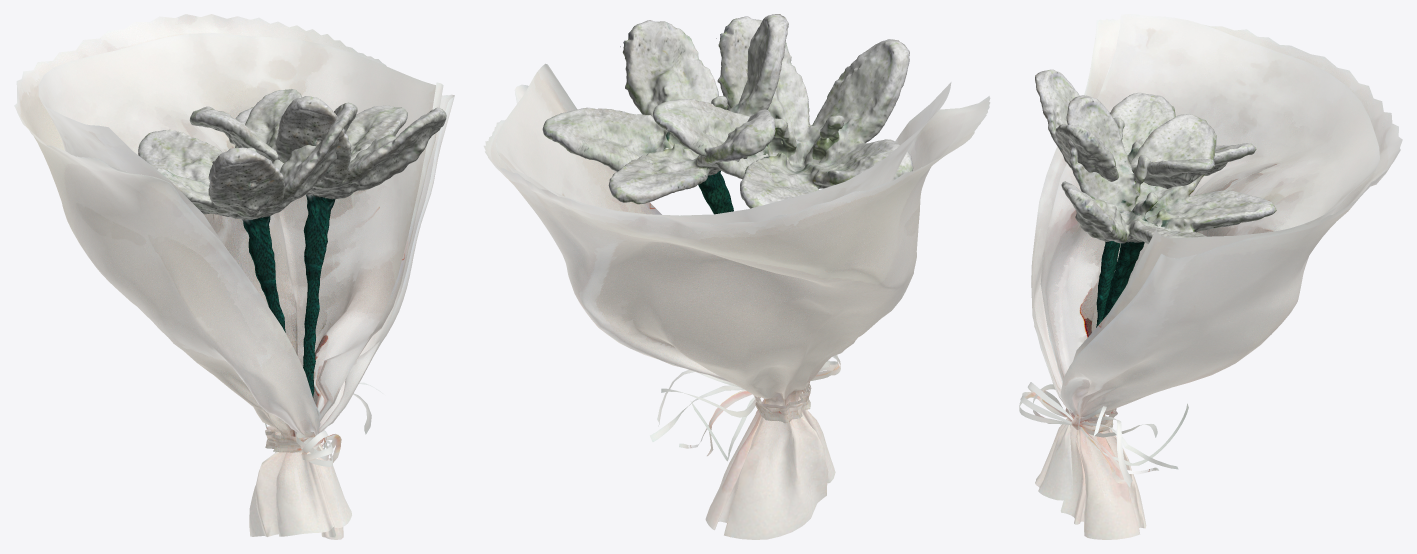
The model's file is lily_bouquet.glb.
3 renders of one model, left to right at view 1: azimuth 30°, elevation 25°; view 2: azimuth 150°, elevation 25°; view 3: azimuth 270°, elevation 25°, orthographic. The views are drawn at different scales.
Visible parts, largest first — view 1: inner, outer, Lily_Petal, Lily_Petal.001, Lily_Stem.001, Lily_Stem, ribbon, parcel_knot; view 2: outer, Lily_Petal, Lily_Petal.001, inner, ribbon, parcel_knot, Lily_Stem.001; view 3: inner, outer, Lily_Petal.001, Lily_Petal, ribbon, Lily_Stem.001, Lily_Stem.
Boxes of the visible parts, <box> form: inner: <box>38,33,443,436</box>; outer: <box>14,14,454,539</box>; Lily_Petal: <box>138,89,357,219</box>; Lily_Petal.001: <box>189,96,446,199</box>; Lily_Stem.001: <box>303,195,335,397</box>; Lily_Stem: <box>242,216,285,332</box>; ribbon: <box>265,382,383,466</box>; parcel_knot: <box>265,426,314,452</box>; outer: <box>483,84,990,539</box>; Lily_Petal: <box>653,16,913,208</box>; Lily_Petal.001: <box>542,14,788,204</box>; inner: <box>496,63,951,224</box>; ribbon: <box>650,355,840,461</box>; parcel_knot: <box>753,381,811,423</box>; Lily_Stem.001: <box>698,170,733,214</box>; inner: <box>1040,14,1379,383</box>; outer: <box>1031,18,1402,539</box>; Lily_Petal.001: <box>1061,95,1276,244</box>; Lily_Petal: <box>1035,69,1256,188</box>; ribbon: <box>1019,382,1188,487</box>; Lily_Stem.001: <box>1102,241,1144,320</box>; Lily_Stem: <box>1096,241,1120,327</box>.
Bounding box in the file's own units: 1.8 × 1.89 × 1.55.
5 materials, 5 textured.
